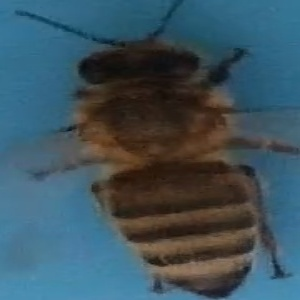bee: (15, 9, 295, 300)
